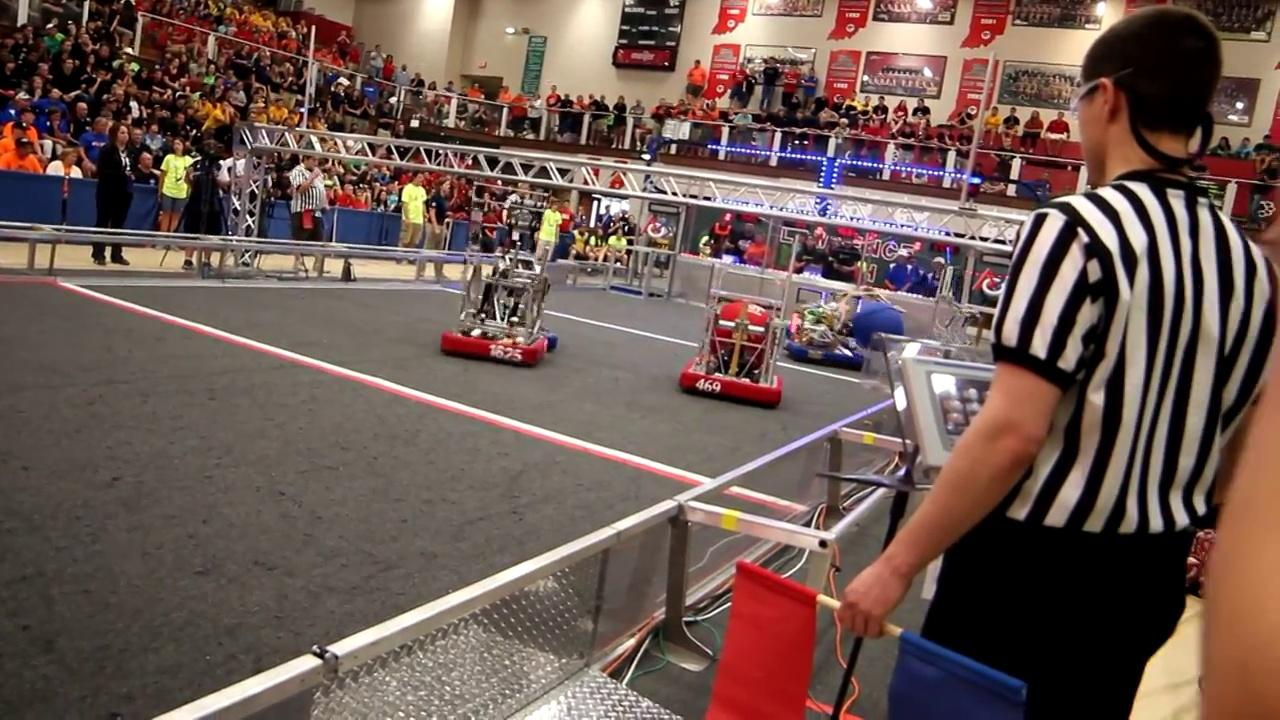robot: (439, 248, 558, 368), (676, 291, 789, 411), (781, 296, 872, 375)
